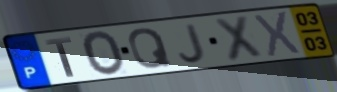J: (177, 22, 207, 65)
O: (81, 30, 128, 78)
Q: (127, 26, 175, 70)
T: (43, 35, 76, 78)
X: (212, 13, 266, 63), (252, 9, 303, 59)
